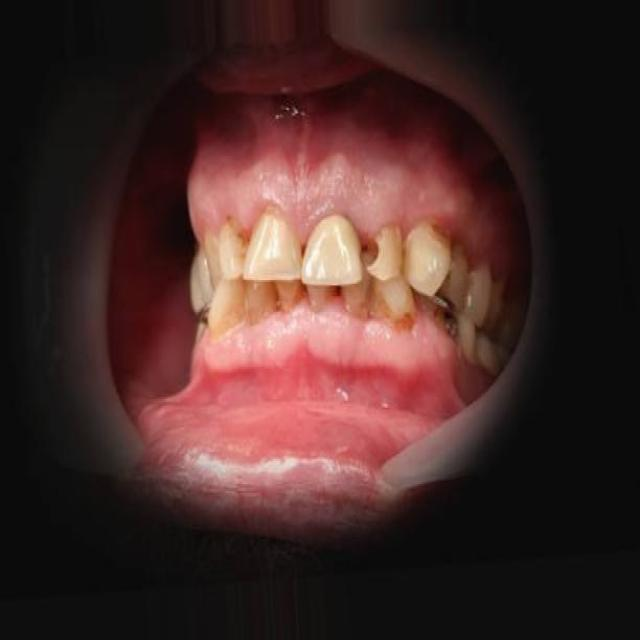caries: (354, 220, 386, 279), (390, 297, 424, 346)
